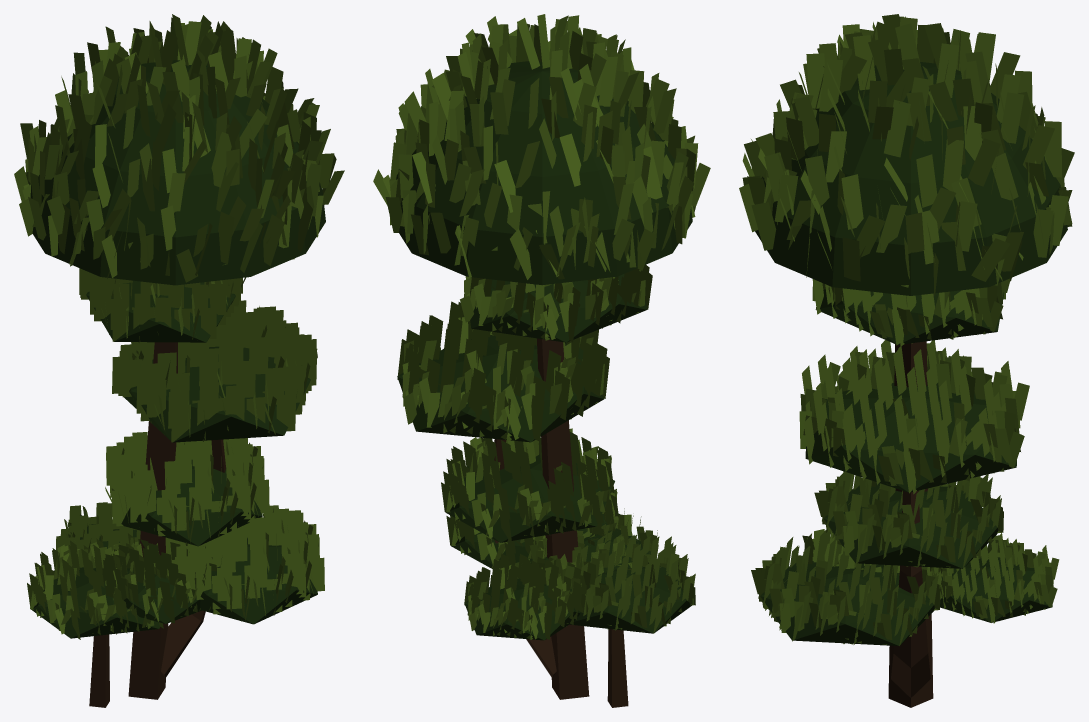
Rendered from Tree2.glb.
3 views of the same model, side by side, from view 1: azimuth 30°, elevation 25°; view 2: azimuth 150°, elevation 25°; view 3: azimuth 270°, elevation 25° (orthographic). The views are drawn at different scales.
Visible parts, largest first — view 1: Tree2; view 2: Tree2; view 3: Tree2.
Boxes of the visible parts, x1,y1,x2,y2 form: Tree2: (14, 14, 344, 707); Tree2: (373, 14, 710, 707); Tree2: (739, 14, 1074, 707).
Size of the model in its own units: 3.35 by 7.39 by 3.28.
